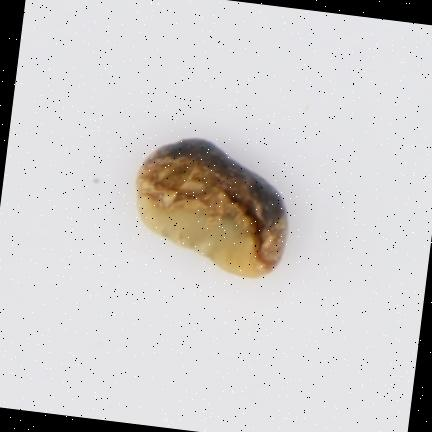partial-black: (135, 138, 287, 275)
